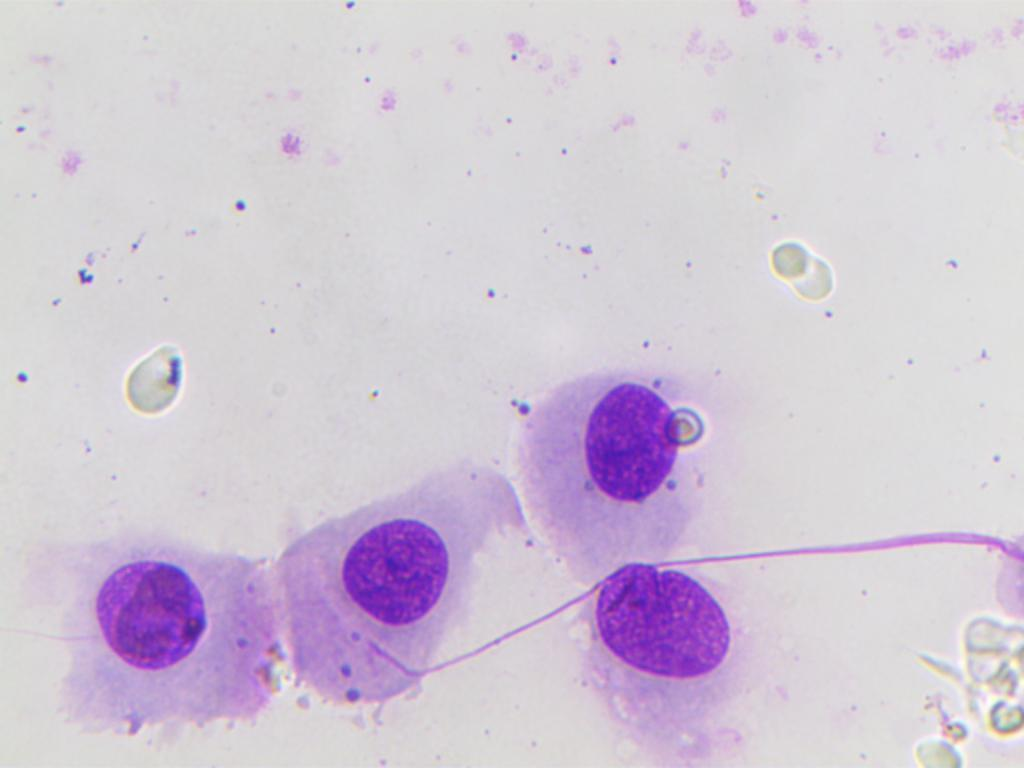artifact: (917, 601, 1024, 768), (111, 333, 188, 420), (759, 229, 835, 306), (660, 396, 724, 452)
epithelial: (275, 462, 512, 733), (504, 354, 724, 588), (50, 538, 276, 730), (568, 561, 765, 767)
